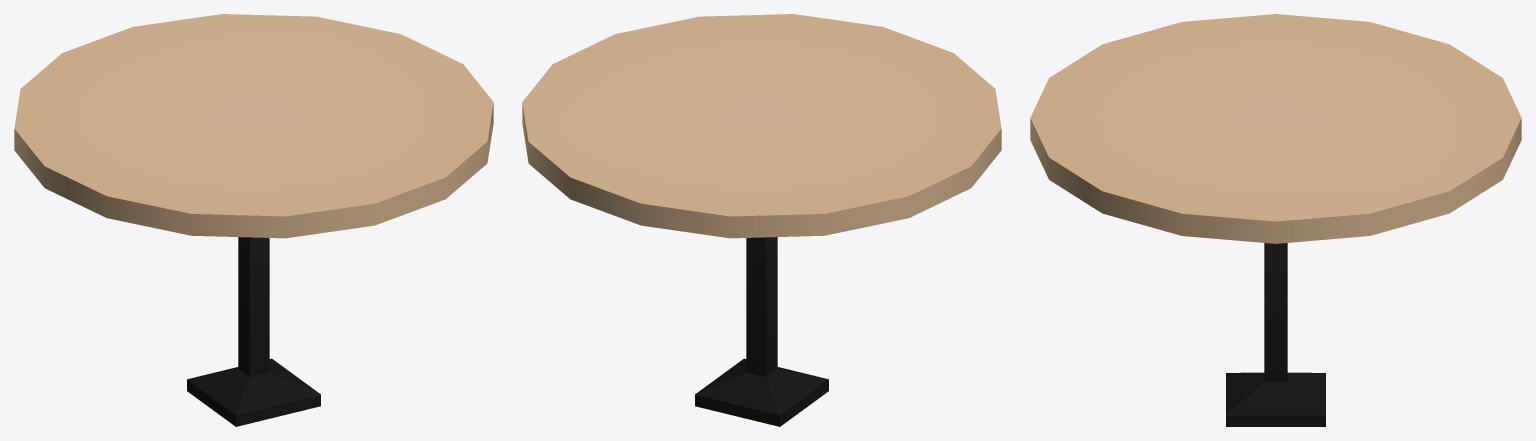
File: tafel.fbx
3 views of the same model, side by side, from view 1: azimuth 30°, elevation 25°; view 2: azimuth 150°, elevation 25°; view 3: azimuth 270°, elevation 25° (orthographic).
Visible parts, largest first — view 1: tafel; view 2: tafel; view 3: tafel.
Part boxes in pixels (x1,y1,x2,y2): tafel: (14,14,493,426); tafel: (522,14,1001,426); tafel: (1030,14,1521,426).
Bounding box in the file's own units: 207 × 134 × 207.
